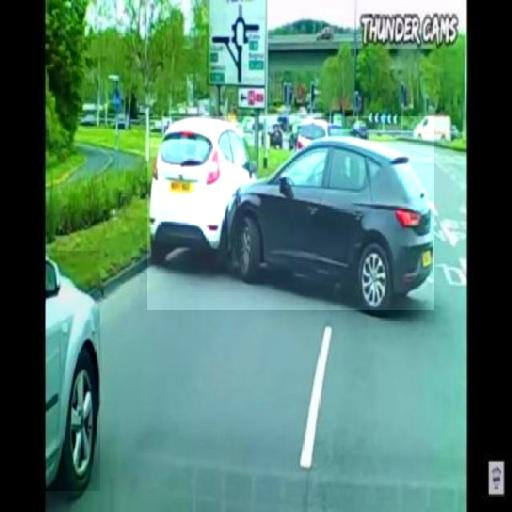小汽车: (44, 252, 100, 492)
小汽车撞小汽车: (147, 116, 434, 310)
